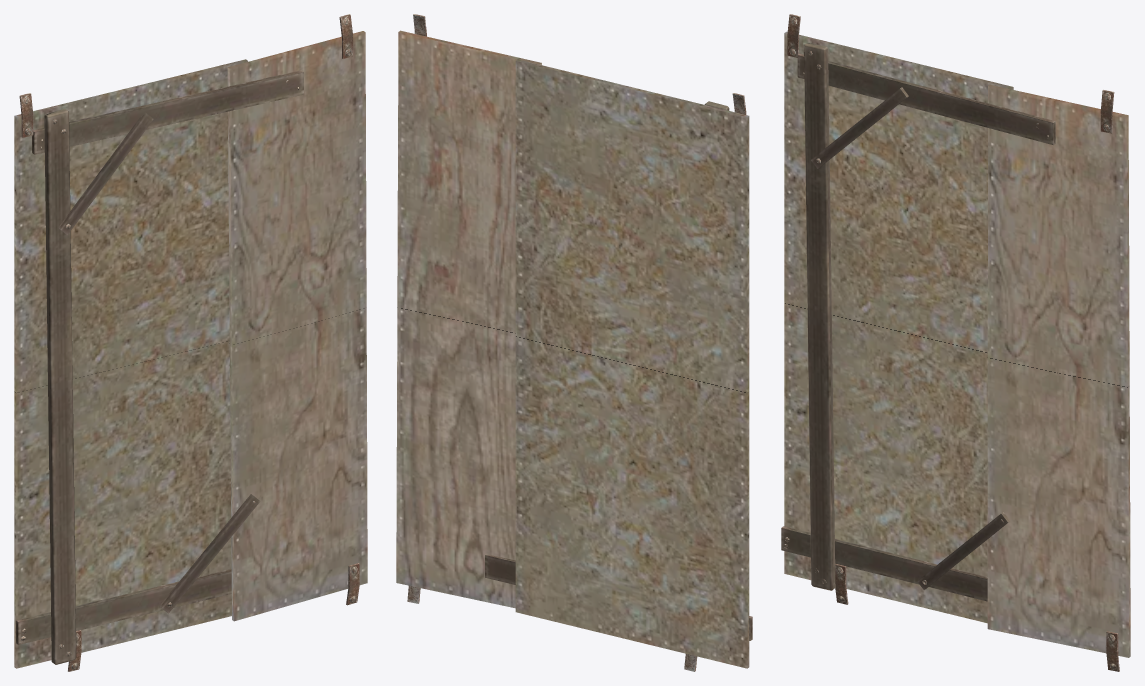
Rendered from plywood_boarding_250_a_mossy.glb.
3 renders of one model, left to right at view 1: azimuth 30°, elevation 25°; view 2: azimuth 150°, elevation 25°; view 3: azimuth 330°, elevation 25°, orthographic.
Visible parts, largest first — view 1: plywood_boarding_250_a_mossy; view 2: plywood_boarding_250_a_mossy; view 3: plywood_boarding_250_a_mossy.
Boxes of the visible parts, x1=… form: plywood_boarding_250_a_mossy: x1=14, y1=14, x2=367, y2=671; plywood_boarding_250_a_mossy: x1=396, y1=14, x2=752, y2=671; plywood_boarding_250_a_mossy: x1=781, y1=14, x2=1130, y2=671.
Size of the model in its own units: 1.99 by 3.18 by 0.1047.
Materials: 1 (1 with a texture image).
